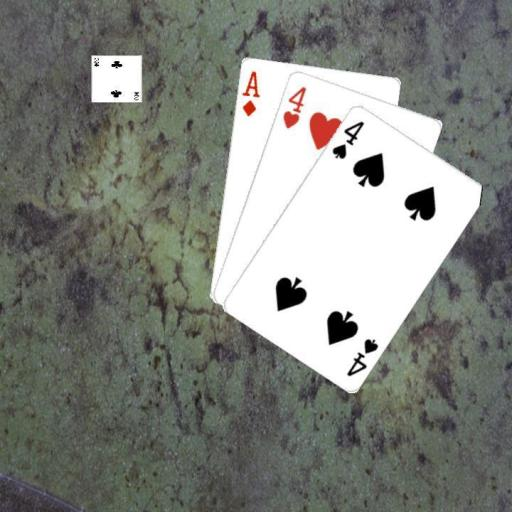card-corner: (328, 117, 366, 161), (344, 335, 380, 378), (279, 83, 308, 130), (239, 68, 261, 118)
